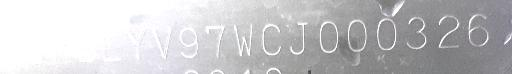letter: (433, 12, 461, 52), (466, 10, 492, 50), (47, 29, 75, 65), (288, 18, 312, 58), (374, 15, 398, 54), (259, 19, 283, 58), (98, 26, 124, 61), (404, 15, 428, 52), (316, 18, 340, 55), (150, 24, 174, 61), (124, 25, 148, 62), (74, 29, 98, 64), (345, 18, 369, 53), (232, 20, 254, 58), (27, 28, 49, 65), (205, 23, 227, 58), (178, 26, 200, 60)
